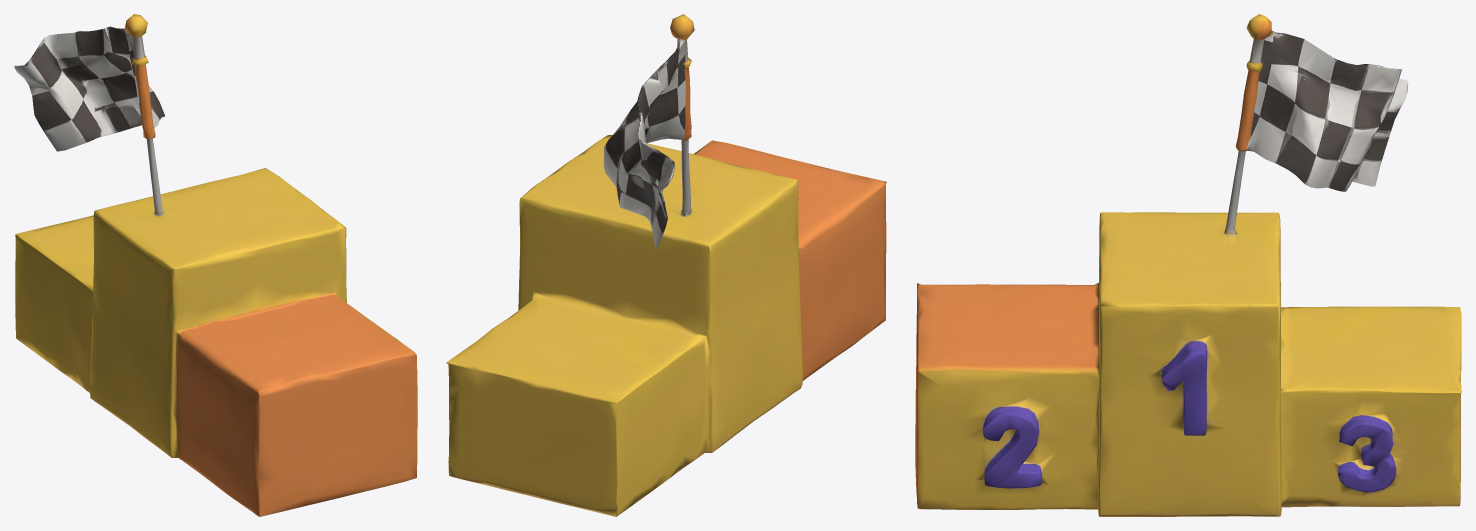
The model's file is podium.glb.
The picture shows the model from 3 angles, left to right: view 1: azimuth 30°, elevation 25°; view 2: azimuth 150°, elevation 25°; view 3: azimuth 270°, elevation 25°; orthographic projection. The views are drawn at different scales.
Visible parts, largest first — view 1: podium-0; view 2: podium-0; view 3: podium-0.
Part boxes in pixels (<box>): podium-0: <box>14,14,417,516</box>; podium-0: <box>446,14,886,516</box>; podium-0: <box>915,14,1461,516</box>.
Size of the model in its own units: 0.5168 by 0.8628 by 1.
1 material, 1 textured.
